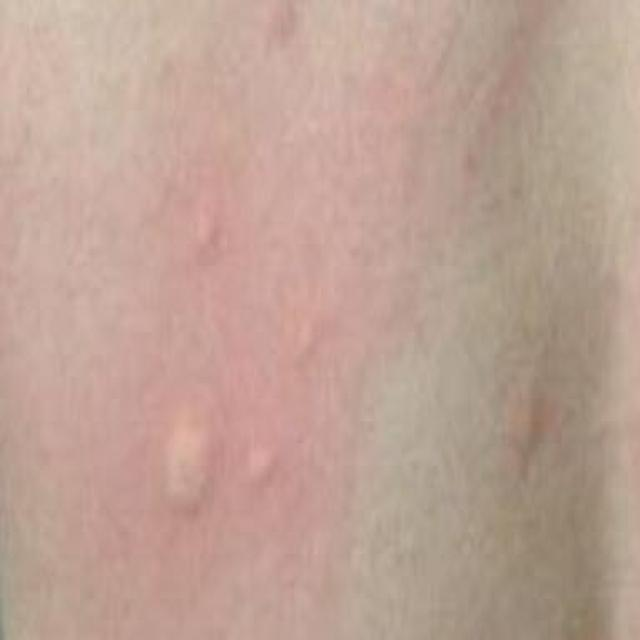sinek: (157, 422, 217, 513), (184, 207, 223, 261), (246, 442, 278, 484), (285, 315, 314, 356)
